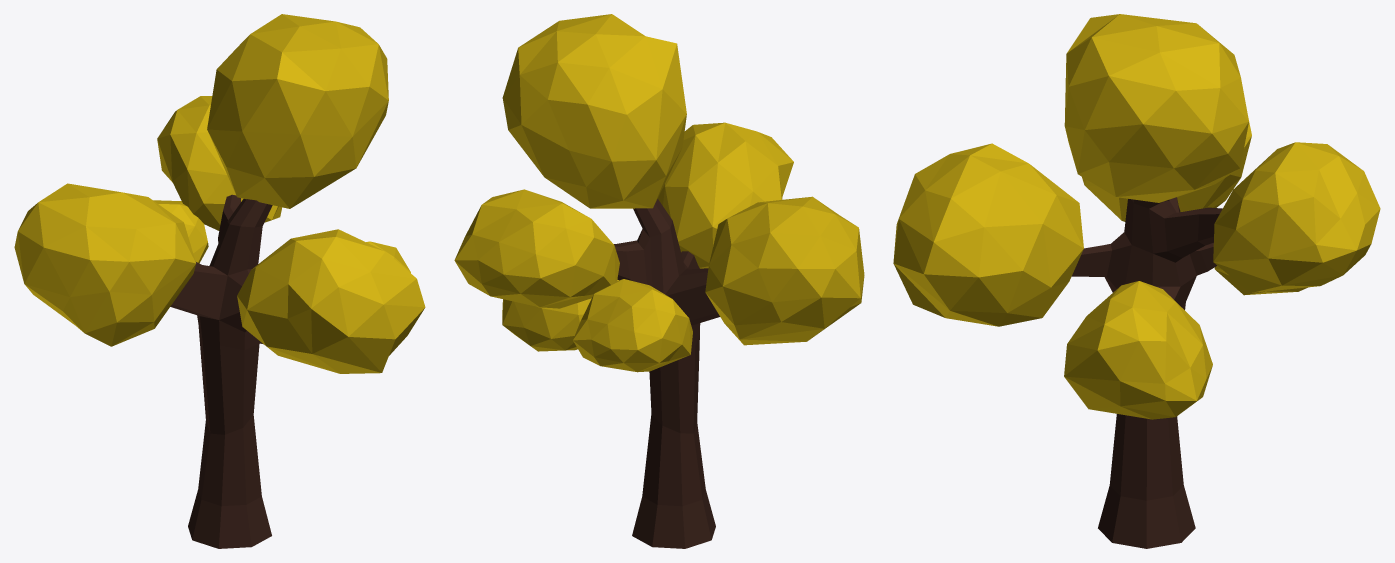
Rendered from MapleTree3.fbx.
3 views of the same model, side by side, from view 1: azimuth 30°, elevation 25°; view 2: azimuth 150°, elevation 25°; view 3: azimuth 270°, elevation 25° (orthographic). The views are drawn at different scales.
Visible parts, largest first — view 1: Cylinder.003; view 2: Cylinder.003; view 3: Cylinder.003.
Boxes of the visible parts, x1=… form: Cylinder.003: x1=14, y1=14, x2=425, y2=548; Cylinder.003: x1=454, y1=14, x2=864, y2=548; Cylinder.003: x1=893, y1=14, x2=1380, y2=548.
Bounding box in the file's own units: 351 × 447 × 364.
